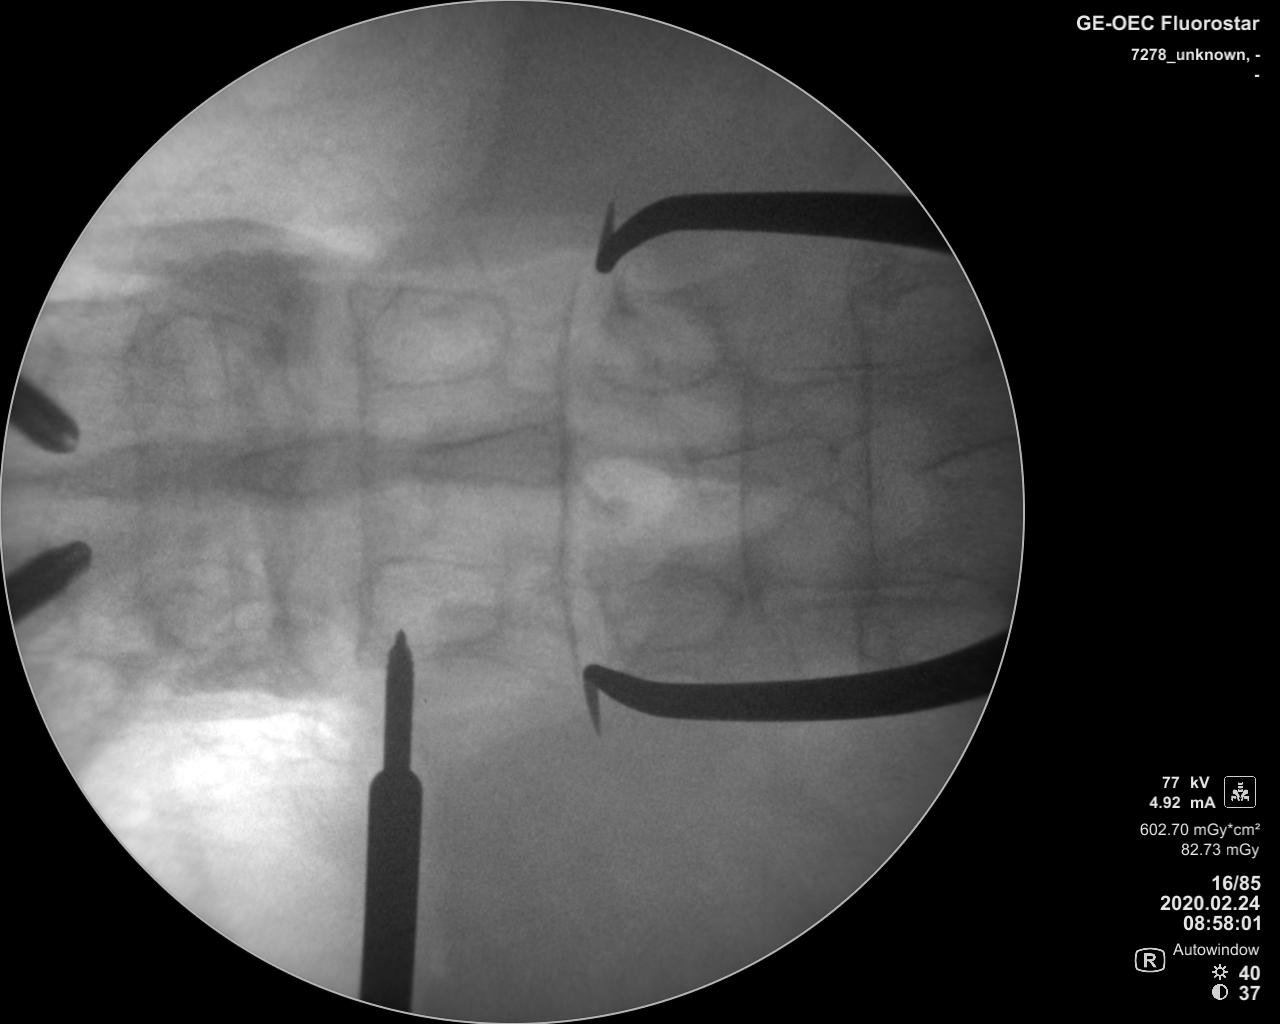eyes: (372, 287, 515, 383), (595, 293, 729, 391), (602, 563, 746, 651), (144, 313, 279, 405), (367, 553, 503, 644), (149, 560, 269, 655)
line: (119, 312, 186, 667), (339, 272, 386, 678), (548, 263, 587, 683), (844, 283, 880, 647), (736, 308, 773, 629)
nose: (409, 417, 596, 490), (41, 436, 229, 504), (674, 432, 848, 495), (225, 435, 391, 497)
